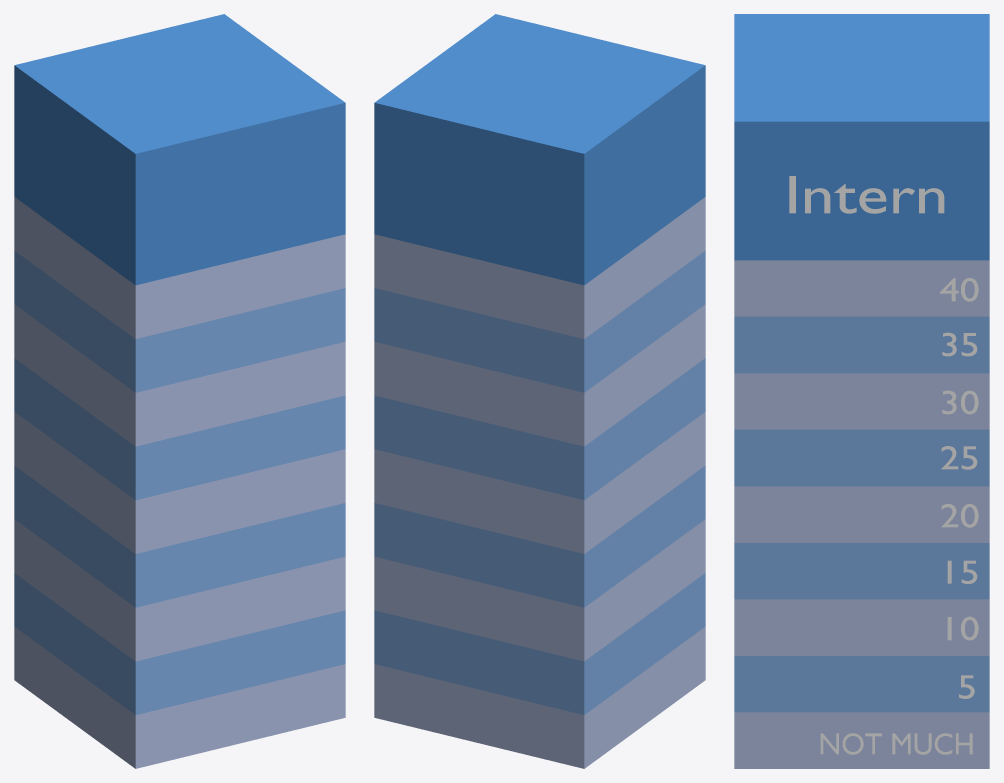
File: intern_block.fbx
The picture shows the model from 3 angles, left to right: view 1: azimuth 30°, elevation 25°; view 2: azimuth 150°, elevation 25°; view 3: azimuth 270°, elevation 25°; orthographic projection. The views are drawn at different scales.
Visible parts, largest first — view 1: Cube.009, Cube, Cube.001, Cube.002, Cube.007, Cube.008, Cube.003, Cube.005, Cube.006, Cube.004; view 2: Cube.009, Cube, Cube.001, Cube.002, Cube.007, Cube.008, Cube.003, Cube.005, Cube.006, Cube.004; view 3: Cube.009, Cube.005, Cube.007, Cube.001, Cube.003, Cube.002, Cube.004, Cube.008, Cube.006, Cube, Text.009, Text.
Part boxes in pixels (x1=…): Cube.009: x1=14, y1=14, x2=345, y2=285; Cube: x1=14, y1=627, x2=345, y2=768; Cube.001: x1=14, y1=573, x2=345, y2=715; Cube.002: x1=14, y1=519, x2=345, y2=661; Cube.007: x1=14, y1=250, x2=345, y2=392; Cube.008: x1=14, y1=197, x2=345, y2=338; Cube.003: x1=14, y1=465, x2=345, y2=607; Cube.005: x1=14, y1=358, x2=345, y2=500; Cube.006: x1=14, y1=304, x2=345, y2=446; Cube.004: x1=14, y1=412, x2=345, y2=553; Cube.009: x1=374, y1=14, x2=705, y2=285; Cube: x1=374, y1=627, x2=705, y2=768; Cube.001: x1=374, y1=573, x2=705, y2=715; Cube.002: x1=374, y1=519, x2=705, y2=661; Cube.007: x1=374, y1=250, x2=705, y2=392; Cube.008: x1=374, y1=197, x2=705, y2=338; Cube.003: x1=374, y1=465, x2=705, y2=607; Cube.005: x1=374, y1=358, x2=705, y2=500; Cube.006: x1=374, y1=304, x2=705, y2=446; Cube.004: x1=374, y1=412, x2=705, y2=553; Cube.009: x1=734, y1=14, x2=989, y2=260; Cube.005: x1=734, y1=429, x2=989, y2=486; Cube.007: x1=734, y1=316, x2=989, y2=373; Cube.001: x1=734, y1=656, x2=989, y2=712; Cube.003: x1=734, y1=543, x2=989, y2=599; Cube.002: x1=734, y1=599, x2=989, y2=655; Cube.004: x1=734, y1=486, x2=989, y2=542; Cube.008: x1=734, y1=260, x2=989, y2=316; Cube.006: x1=734, y1=373, x2=989, y2=429; Cube: x1=734, y1=712, x2=989, y2=768; Text.009: x1=789, y1=176, x2=944, y2=213; Text: x1=820, y1=733, x2=972, y2=754.
Size of the model in its own units: 200 by 560 by 200.
